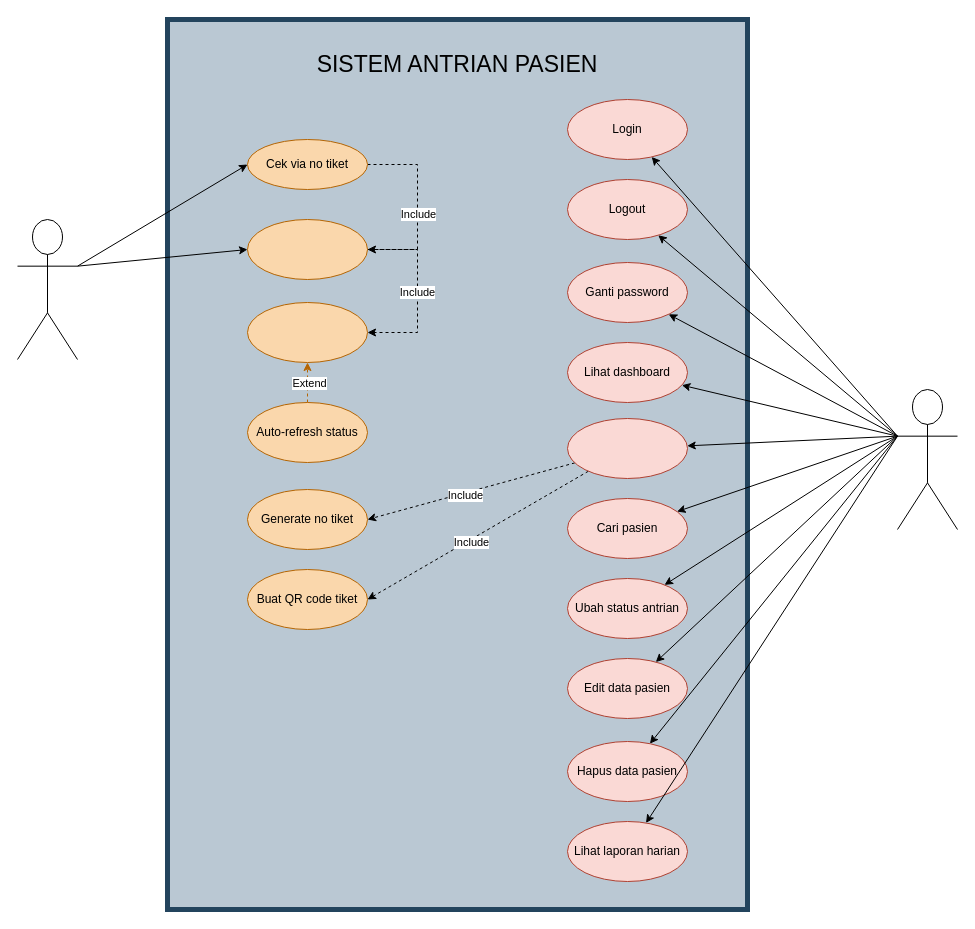
Some shapes in this 975 by 929 pixel diagram are drawn without their labels. Here are the shapes that lost their labels. From the top down, the centre of each, then its label:
the point at 307,249: Scan QR
the point at 47,289: Pasien
the point at 307,332: Lihat status antrian
the point at 627,448: Registrasi pasien
the point at 927,459: Admin
